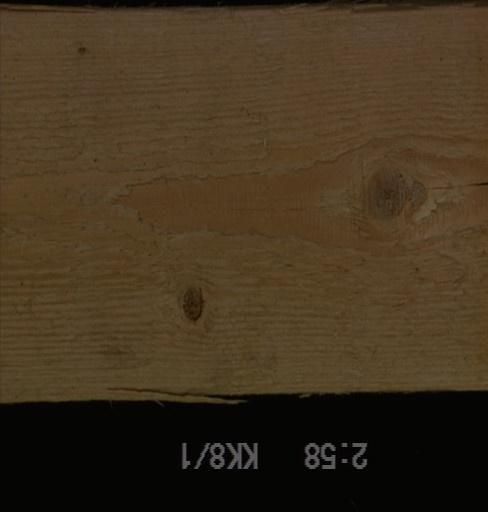dry_knot: (181, 284, 203, 321)
sound_knot: (365, 167, 409, 221)
split: (421, 179, 486, 190)
